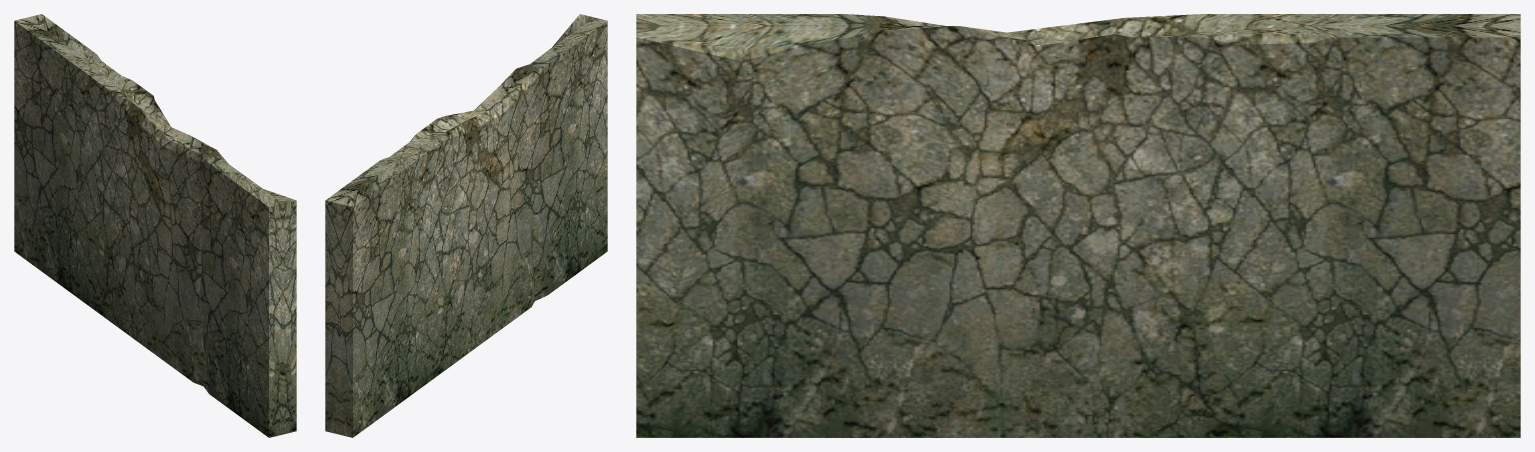
Rendered from thm_nboo_gungan_damaged_wall_lg_s01_l0.fbx.
3 renders of one model, left to right at view 1: azimuth 30°, elevation 25°; view 2: azimuth 150°, elevation 25°; view 3: azimuth 270°, elevation 25°, orthographic. The views are drawn at different scales.
Visible parts, largest first — view 1: mesh_node; view 2: mesh_node; view 3: mesh_node.
Part boxes in pixels (x1,y1,x2,y2): mesh_node: [14, 14, 296, 437]; mesh_node: [325, 14, 607, 437]; mesh_node: [636, 14, 1520, 437].
Size of the model in its own units: 0.5 by 4 by 8.
